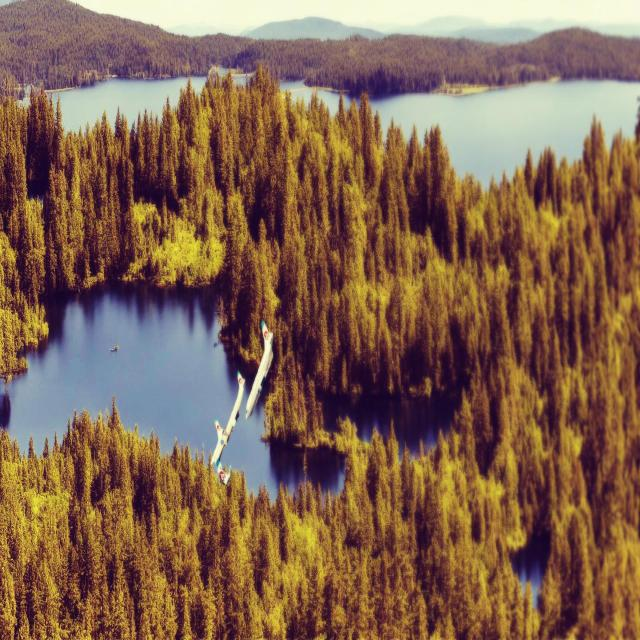airplane: (209, 370, 246, 486), (244, 318, 274, 420)
